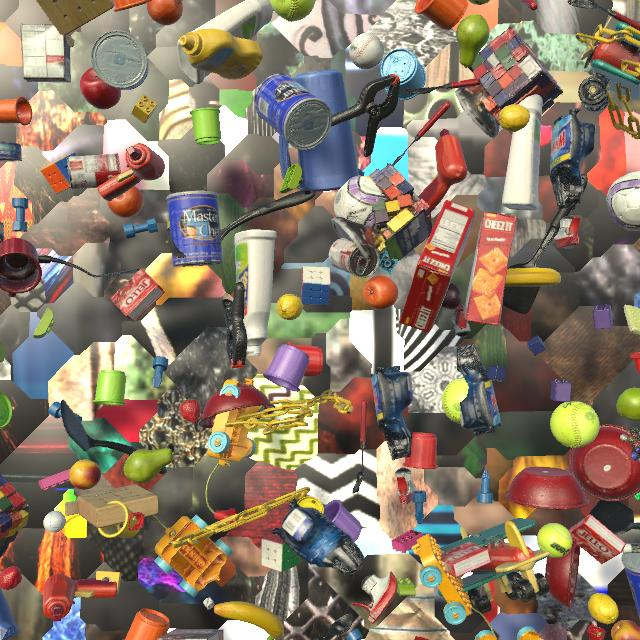ycb_002_master_chef_can: (254, 73, 332, 150), (167, 191, 223, 267), (91, 30, 149, 90), (622, 553, 640, 618)
ycb_003_cracker_box: (399, 200, 475, 333), (464, 212, 517, 326)
ycb_005_tomato_soup_can: (329, 238, 380, 278), (67, 153, 121, 189)
ycb_006_mustard_bottle: (179, 29, 263, 80)
ycb_007_tuna_fish_can: (0, 142, 22, 161), (0, 222, 4, 243)
ycb_008_pudding_box: (20, 24, 71, 83), (157, 629, 224, 640)
ycb_009_gelatin_box: (111, 269, 165, 322), (569, 514, 626, 564), (440, 542, 492, 577)
ycb_011_banana: (214, 601, 284, 640), (505, 268, 561, 287)
ycb_012_strawberry: (180, 398, 201, 424), (0, 566, 22, 590)
ycb_013_apple: (80, 67, 121, 109)
ycb_014_lemon: (588, 593, 619, 624), (498, 104, 530, 132), (276, 294, 303, 320)
ycb_015_peach: (69, 459, 101, 490), (611, 620, 640, 640), (579, 0, 595, 8)
ycb_016_pear: (123, 448, 174, 483), (456, 14, 489, 68), (616, 388, 640, 421)
ycb_017_orange: (363, 275, 398, 310), (107, 186, 144, 218), (147, 0, 183, 26)
ycb_018_plum: (441, 283, 462, 310)
